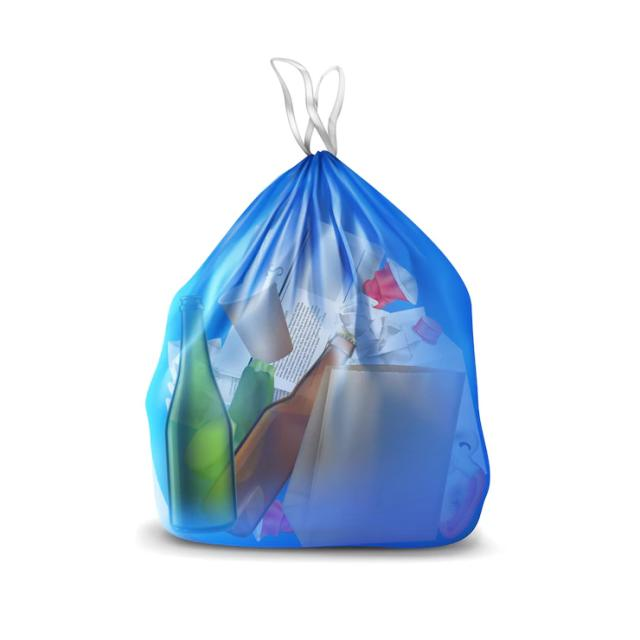plastic_bag: (123, 133, 503, 565)
